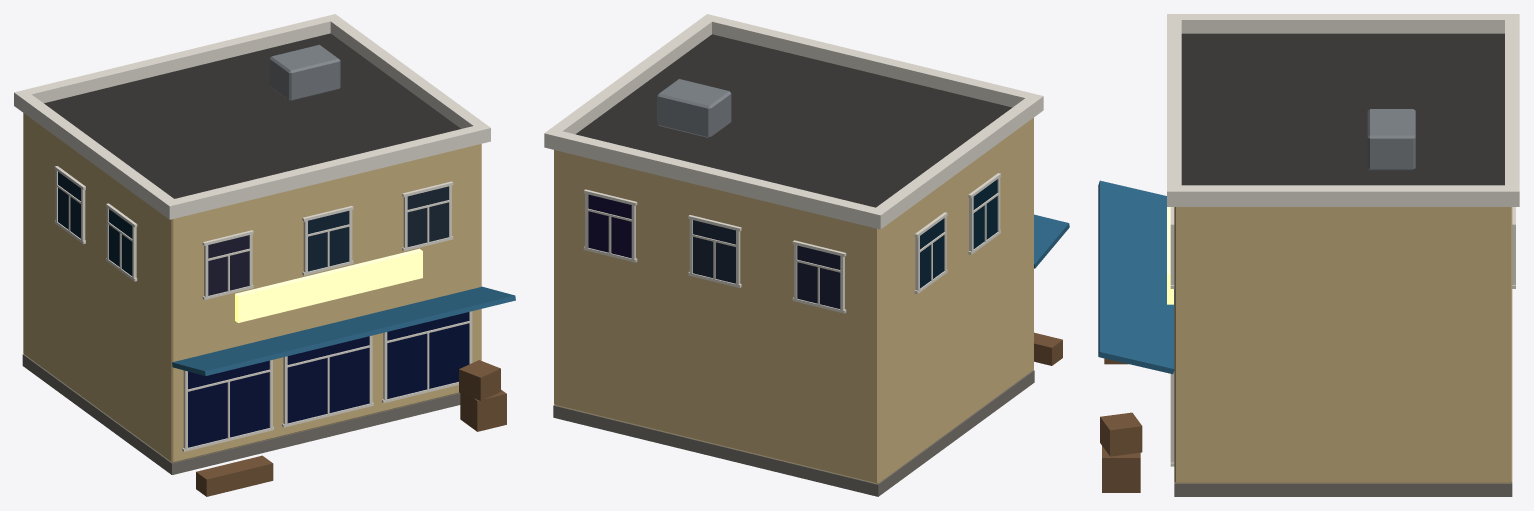
Rendered from shop.glb.
3 views of the same model, side by side, from view 1: azimuth 30°, elevation 25°; view 2: azimuth 150°, elevation 25°; view 3: azimuth 270°, elevation 25° (orthographic). The views are drawn at different scales.
Parts seen in each view (by area): view 1: shop; view 2: shop; view 3: shop.
Boxes of the visible parts, x1=… form: shop: x1=14, y1=14, x2=515, y2=496; shop: x1=544, y1=14, x2=1069, y2=496; shop: x1=1098, y1=14, x2=1519, y2=496.
Size of the model in its own units: 8.7 by 7.54 by 8.72.
